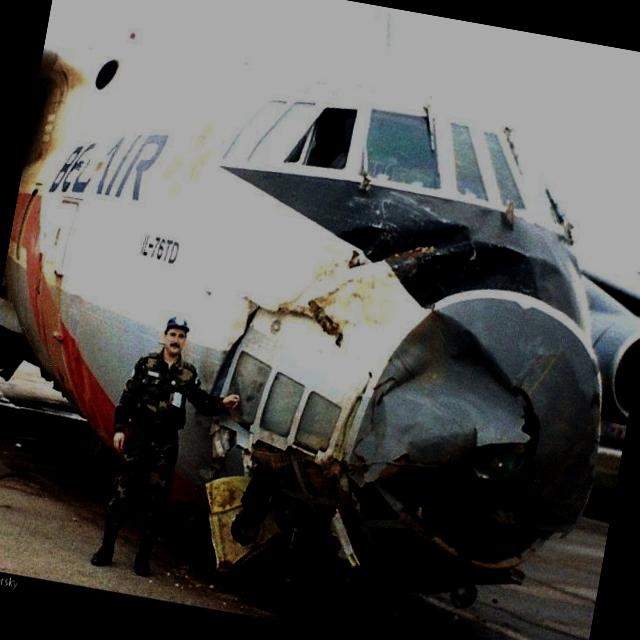dent: (340, 203, 524, 290)
